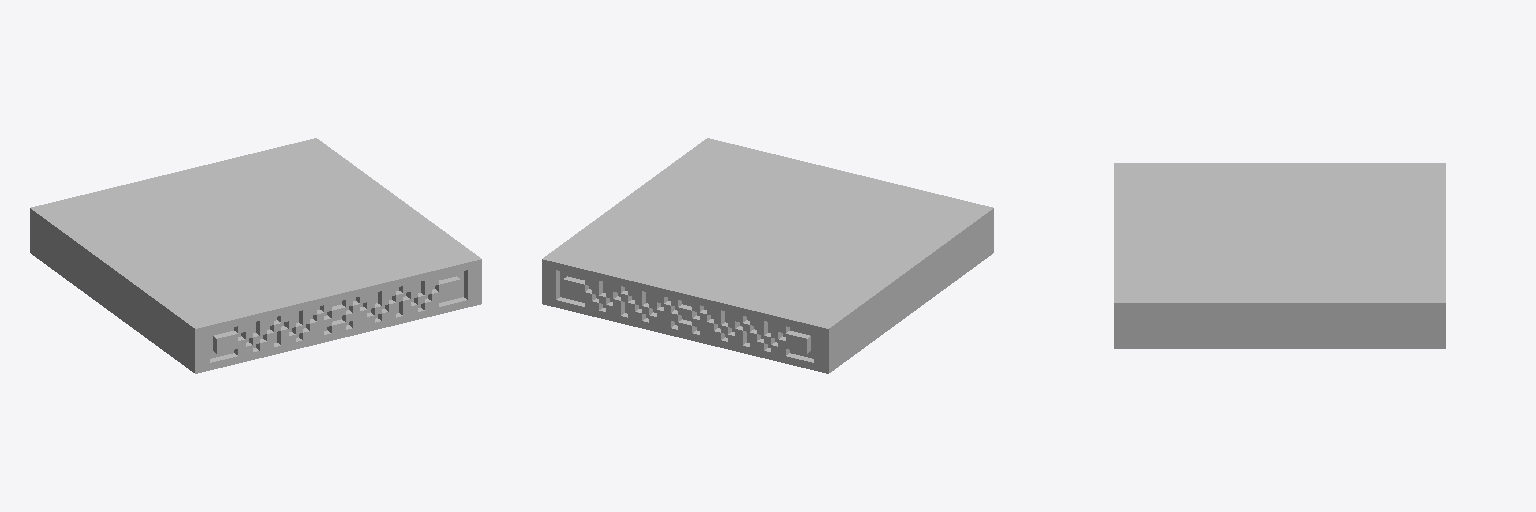
Rendered from floor.obj.
3 renders of one model, left to right at view 1: azimuth 30°, elevation 25°; view 2: azimuth 150°, elevation 25°; view 3: azimuth 270°, elevation 25°, orthographic.
Size of the model in its own units: 40 by 6 by 40.